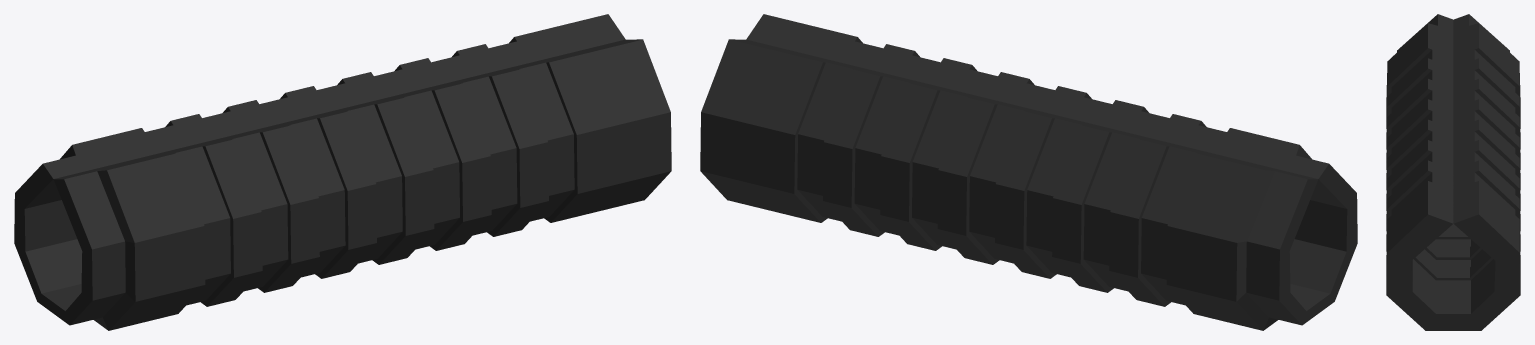
The model's file is Shotgun2_06_2.fbx.
3 renders of one model, left to right at view 1: azimuth 30°, elevation 25°; view 2: azimuth 150°, elevation 25°; view 3: azimuth 270°, elevation 25°, orthographic. The views are drawn at different scales.
Parts seen in each view (by area): view 1: Shotgun2_06_2; view 2: Shotgun2_06_2; view 3: Shotgun2_06_2.
Part boxes in pixels (bbox=[...]): Shotgun2_06_2: bbox=[14, 14, 671, 330]; Shotgun2_06_2: bbox=[700, 14, 1357, 330]; Shotgun2_06_2: bbox=[1386, 14, 1520, 330].
Size of the model in its own units: 0.2195 by 0.0584 by 0.0611.
